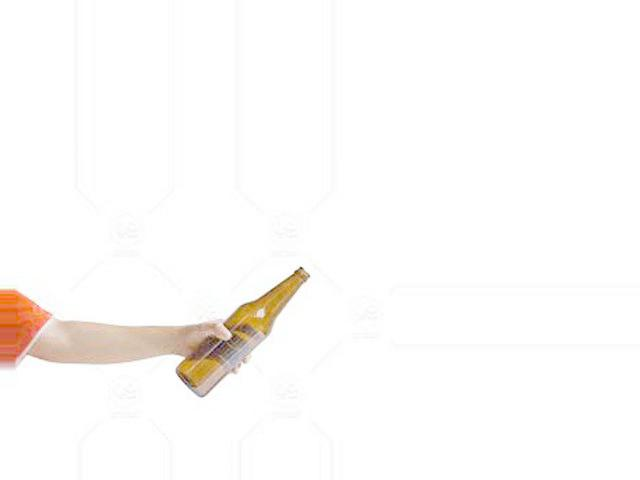beer: (175, 267, 309, 398)
